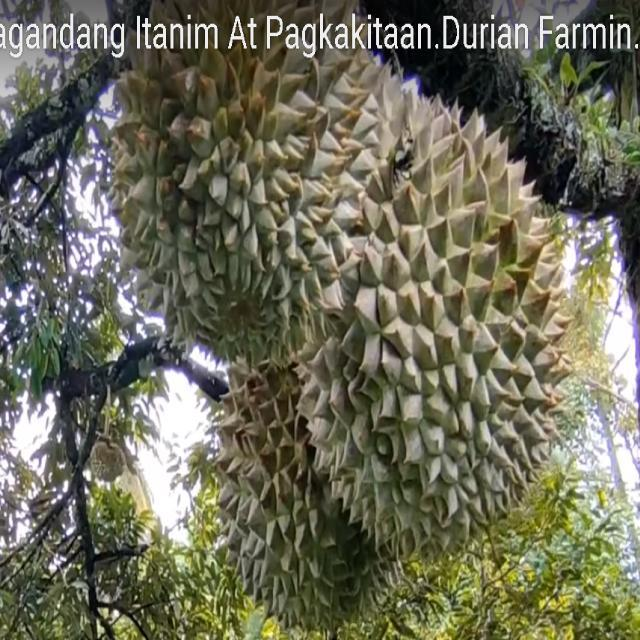immature: (295, 91, 575, 566)
